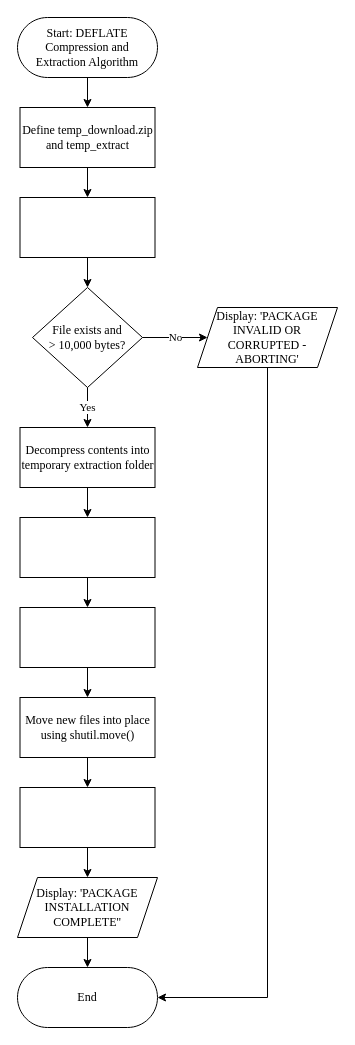
The diagram is 355 pixels wide and 1045 high, and some of its shapes have lost their labels. Here are the shapes that lost their labels. From the top down, the centre of each, then its label:
At [87,227]: "Retrieve ZIP archive using gdown.download()".
At [87,547]: "Identify destination path".
At [87,637]: "Remove any existing destination file or directory".
At [87,817]: "Delete temporary ZIP file and extraction folder".
